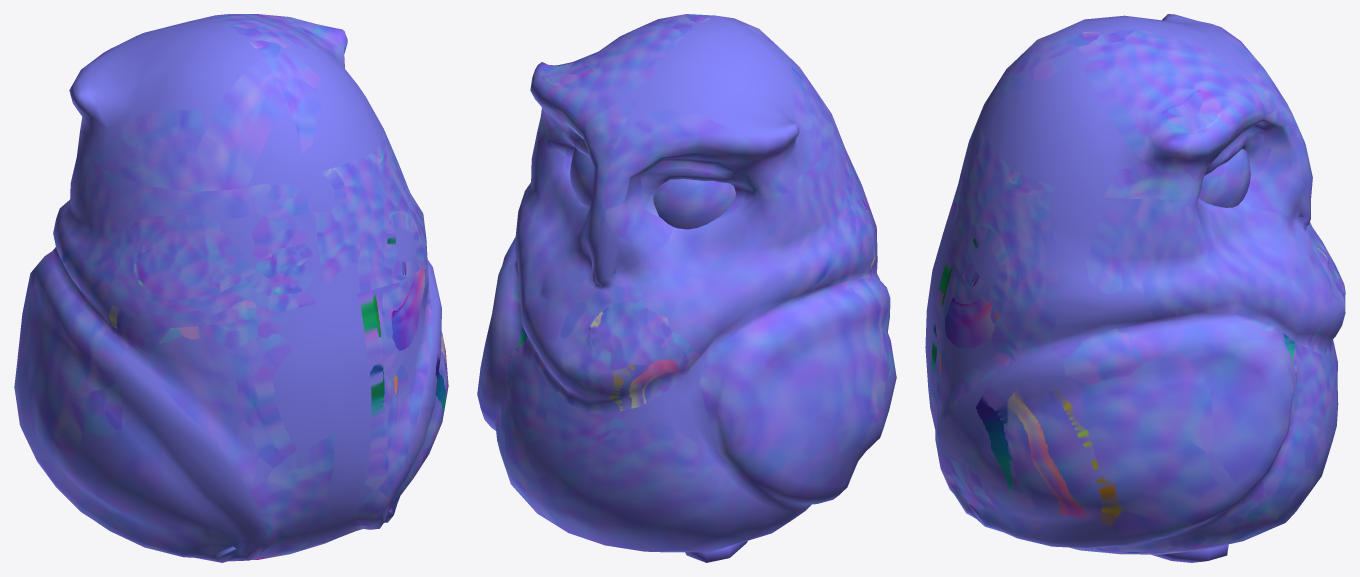
File: owl.dae
The picture shows the model from 3 angles, left to right: view 1: azimuth 30°, elevation 25°; view 2: azimuth 150°, elevation 25°; view 3: azimuth 270°, elevation 25°; orthographic projection. The views are drawn at different scales.
Visible parts, largest first — view 1: Group29894_001_Group29894_002; view 2: Group29894_001_Group29894_002; view 3: Group29894_001_Group29894_002.
Boxes of the visible parts, box(x1,y1,x2,y2) form: Group29894_001_Group29894_002: box(14, 14, 448, 562); Group29894_001_Group29894_002: box(477, 14, 896, 562); Group29894_001_Group29894_002: box(925, 14, 1345, 562).
Bounding box in the file's own units: 2.36 × 2.32 × 3.05.
